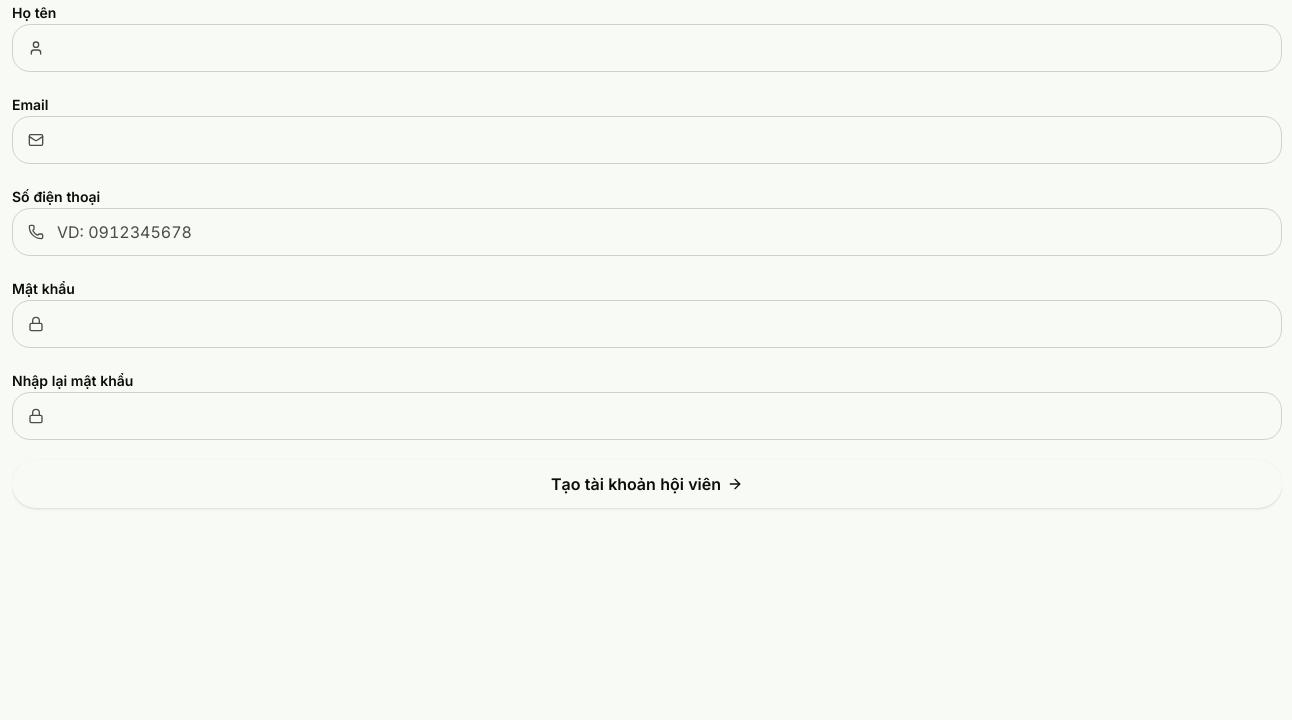
auth account forms › chan dang ky khi mat khau nhap lai khong khop
This screenshot has width=1292, height=720.
Type "Mismatch Member" into the field labelled "Họ tên" at (647, 48), box 12,24 -> 1282,72
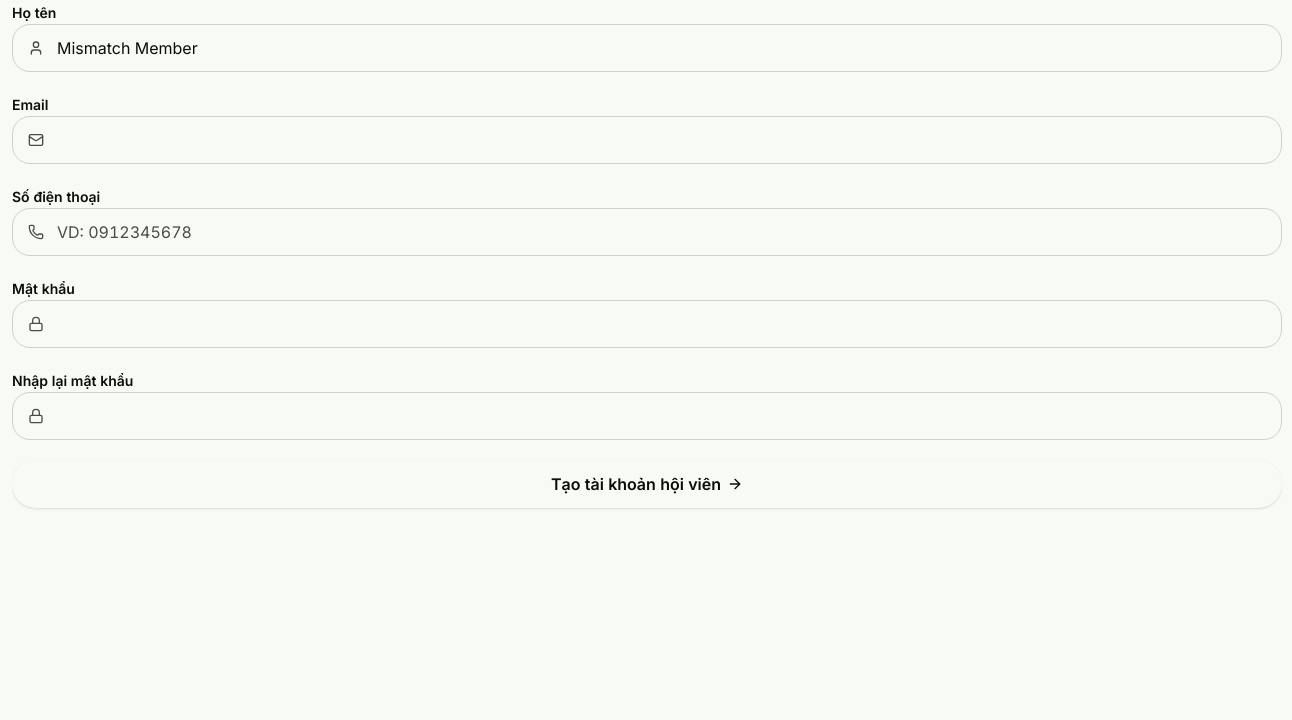
Type "mismatch@gymmaster.local" into the field labelled "Email" at (647, 140), box 12,116 -> 1282,164
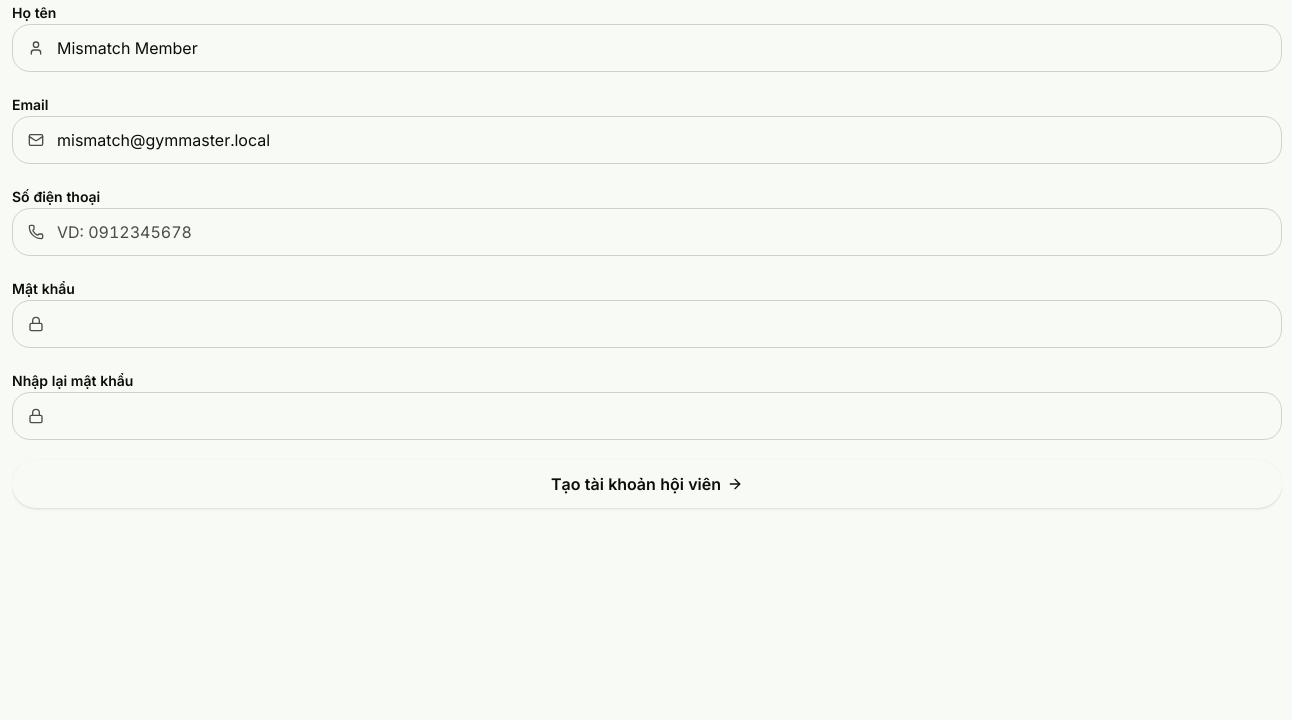
Type "Password123!" into the password field labelled "Mật khẩu" at (647, 324), box 12,300 -> 1282,348
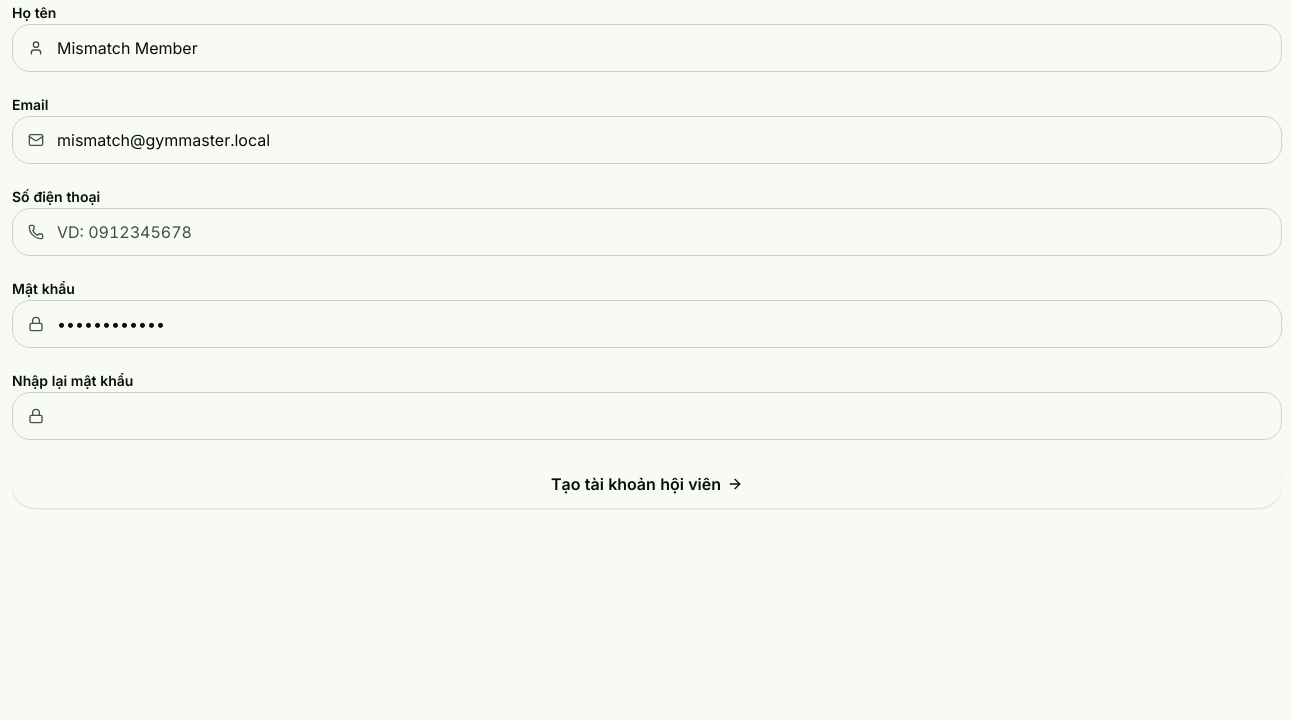
Type "Password456!" into the password field labelled "Nhập lại mật khẩu" at (647, 416), box 12,392 -> 1282,440
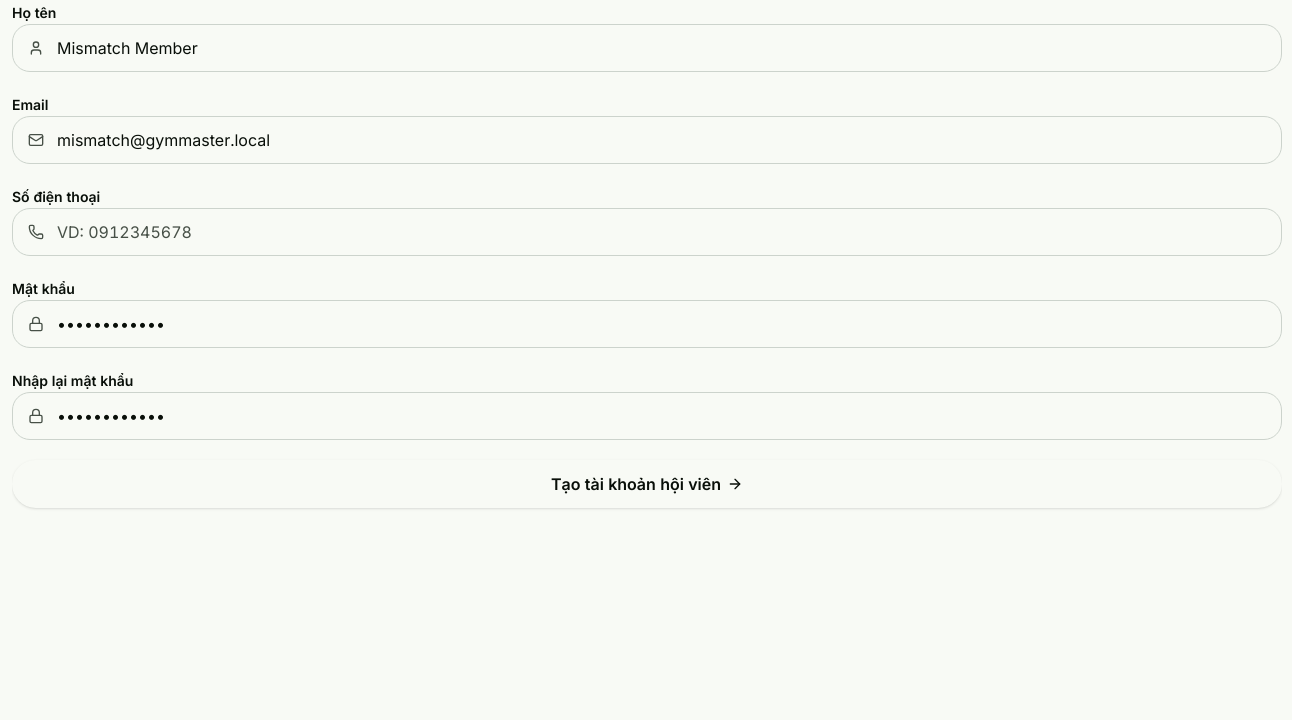
Click the button "Tạo tài khoản hội viên" at (647, 484), box 12,460 -> 1282,508
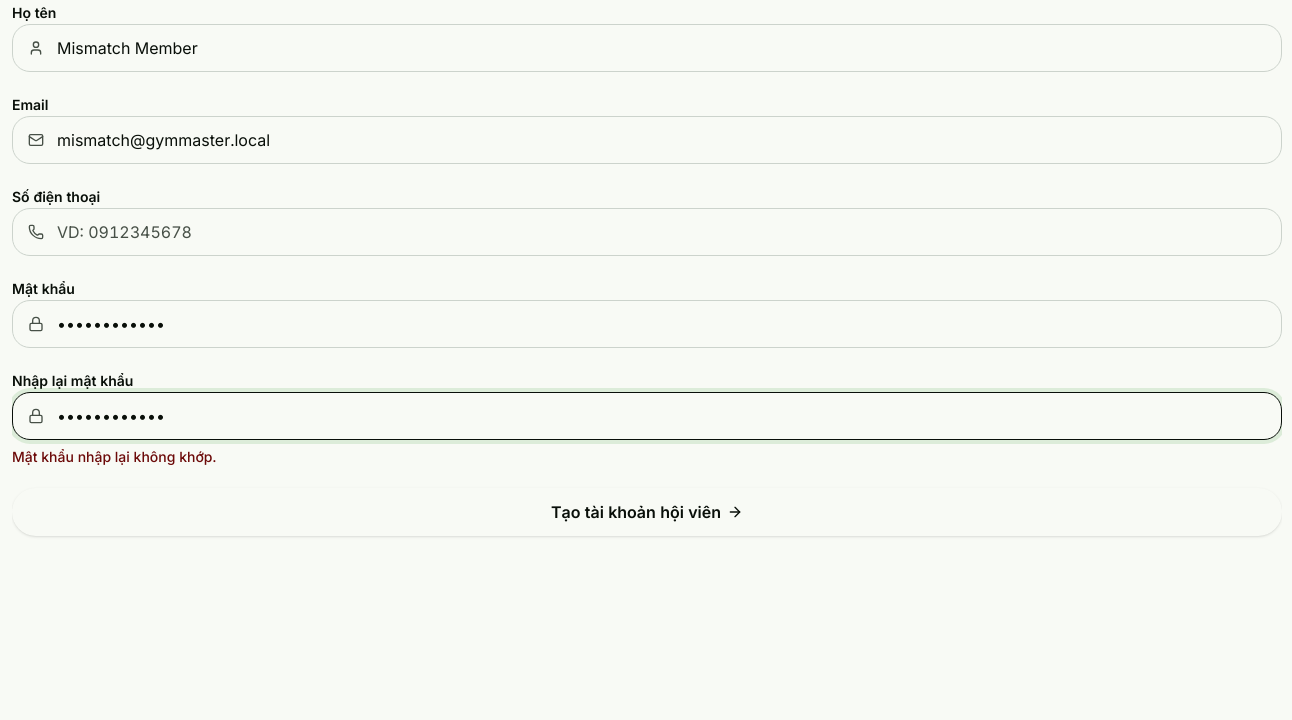
expect the text "Mật khẩu nhập lại không khớp." is shown: met, box 12,449 -> 216,466
